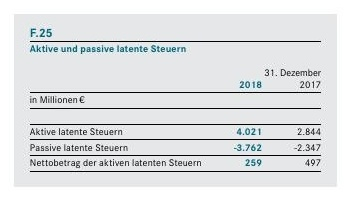table: (0, 0, 346, 198)
